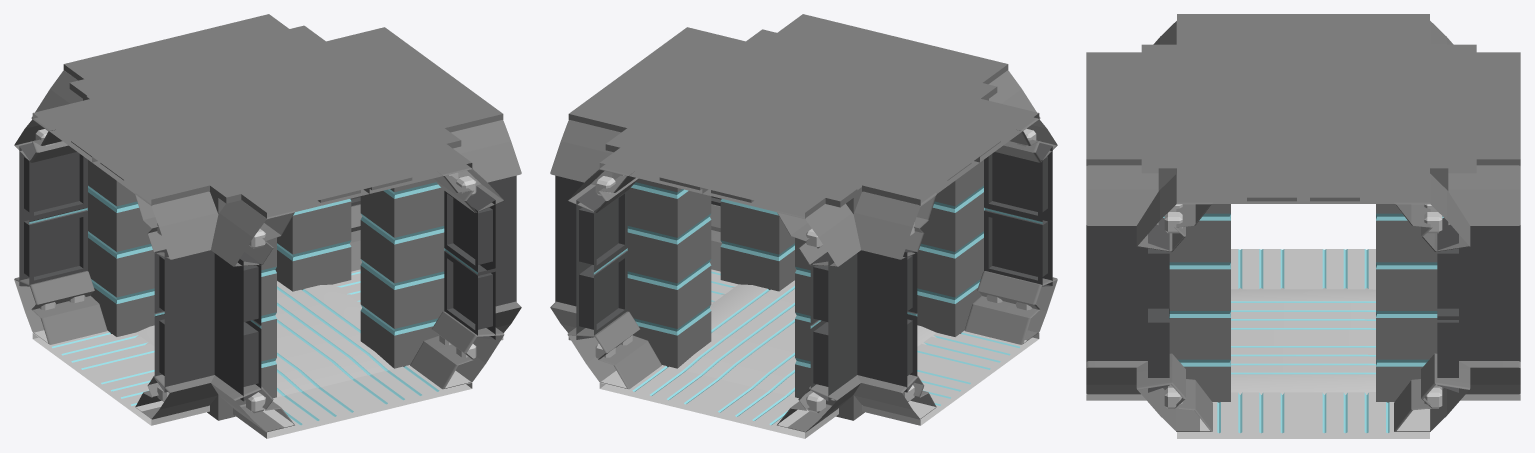
File: Tunnel 4way.fbx
The picture shows the model from 3 angles, left to right: view 1: azimuth 30°, elevation 25°; view 2: azimuth 150°, elevation 25°; view 3: azimuth 270°, elevation 25°; orthographic projection. The views are drawn at different scales.
Visible parts, largest first — view 1: Tunnel.004; view 2: Tunnel.004; view 3: Tunnel.004.
Part boxes in pixels (x1,y1,x2,y2): Tunnel.004: (14, 14, 521, 438); Tunnel.004: (550, 14, 1057, 438); Tunnel.004: (1086, 14, 1520, 438).
Size of the model in its own units: 1200 by 746 by 1200.
